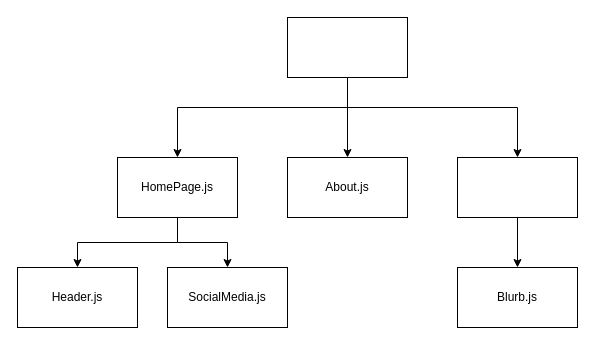
This 595x345 diagram has some shape labels left out. Here are the shapes that lost their labels. From the top down, the centre of each, then its label:
At point (347, 47): "App.js".
At point (517, 187): "Experience.js".
